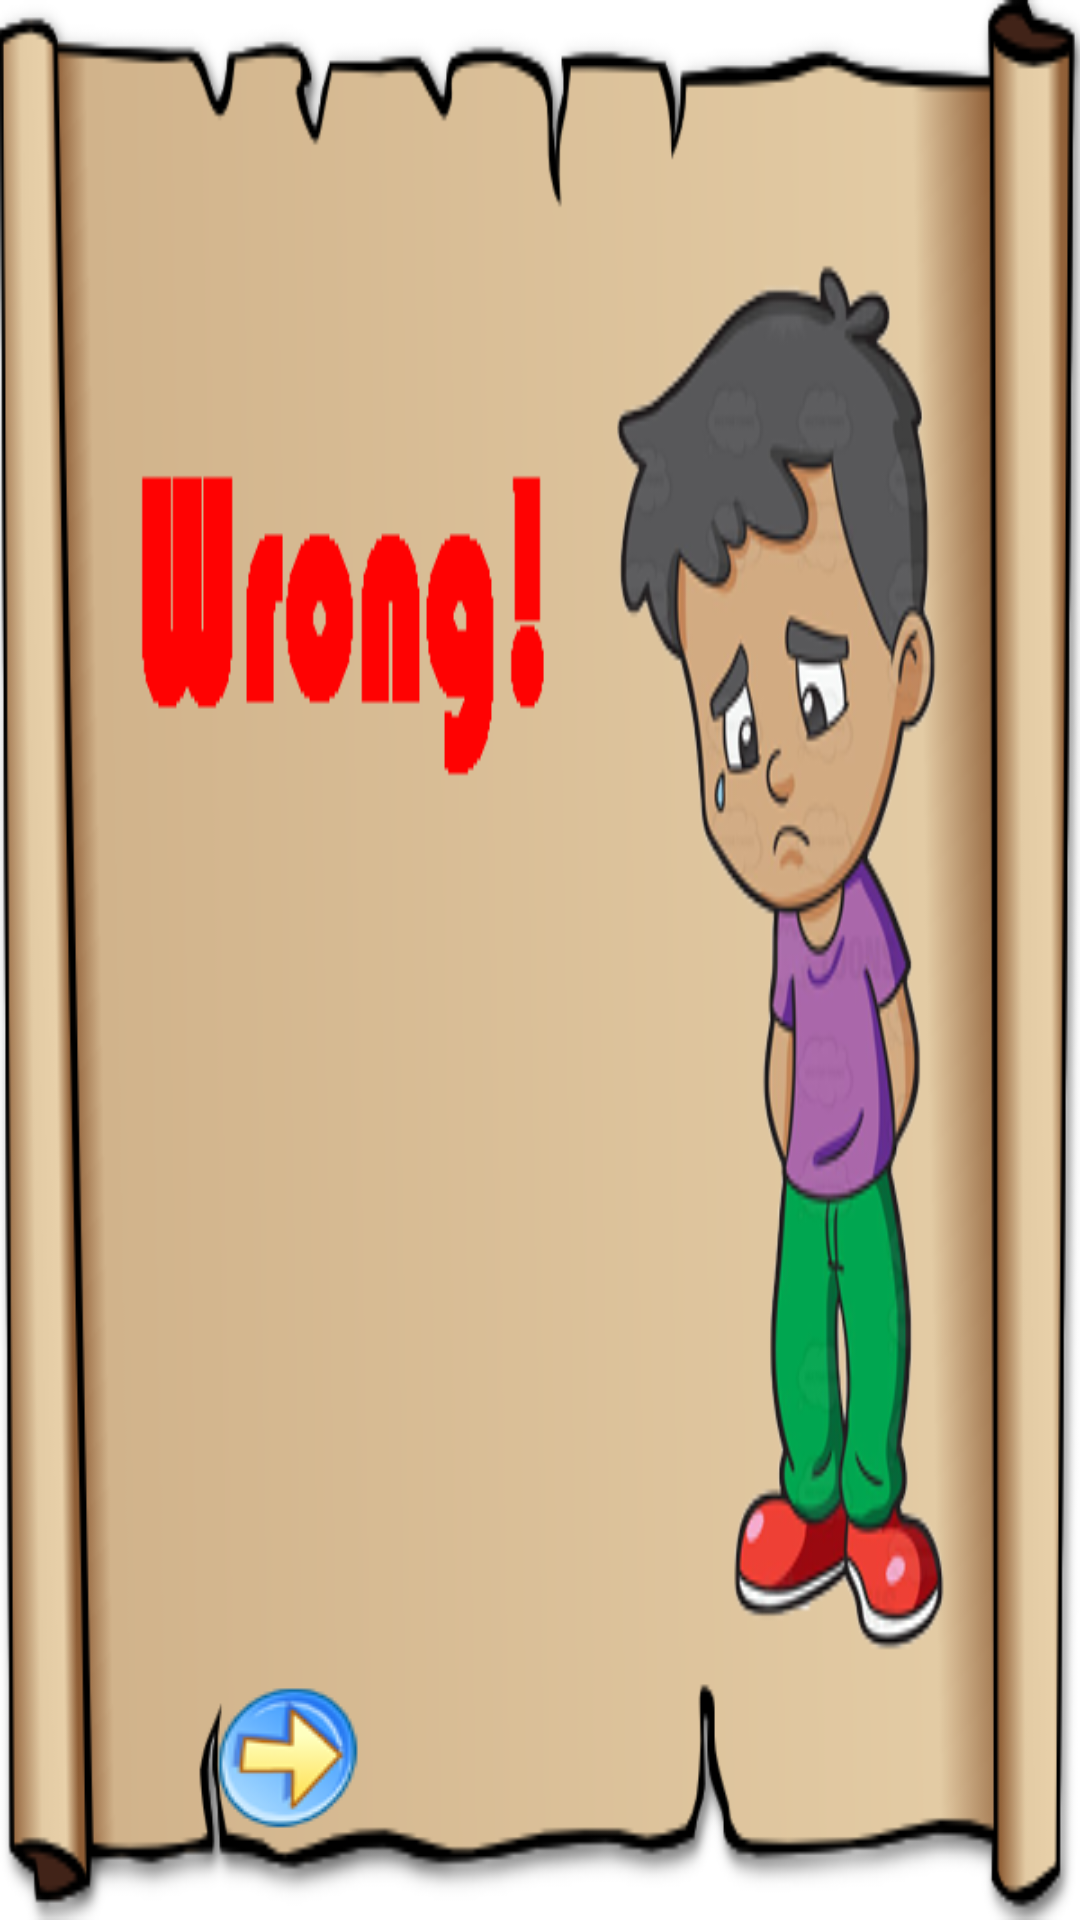

Where to tap for icons on this 1080px×1920px app screen, as point (x, y):
forward: point (288, 1759)
